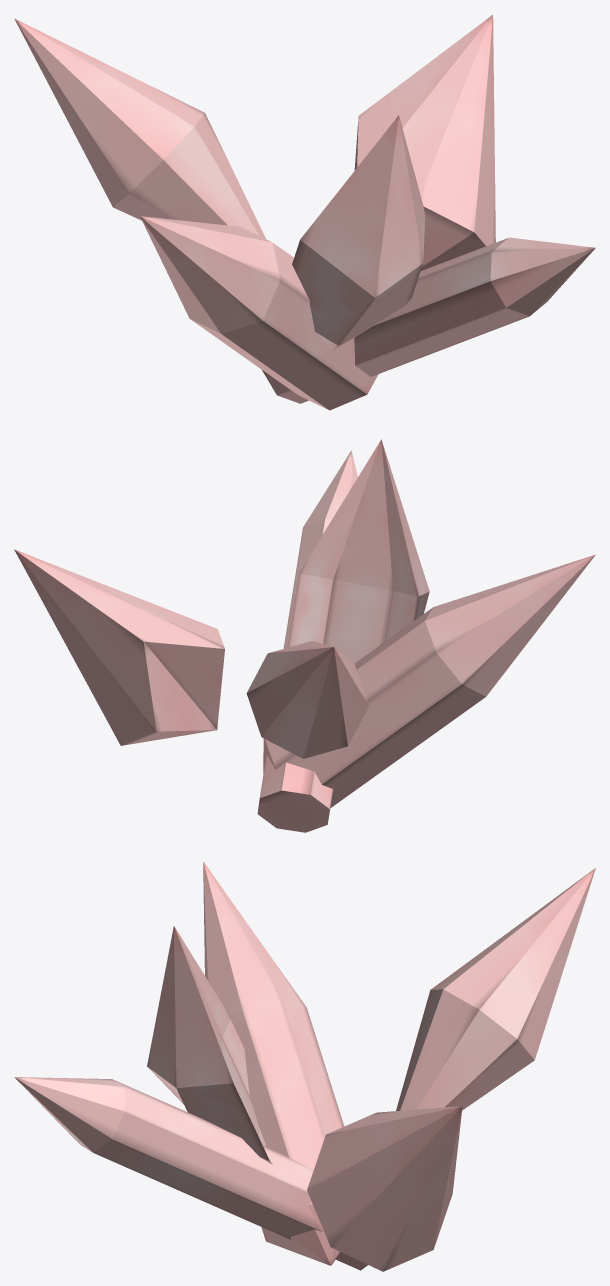
Rendered from ishizakura_fragment.obj.
3 views of the same model, one above another, from view 1: azimuth 30°, elevation 25°; view 2: azimuth 150°, elevation 25°; view 3: azimuth 270°, elevation 25° (orthographic). The views are drawn at different scales.
Visible parts, largest first — view 1: front, right_crystal, left_crystal, center_crystal, cylinder; view 2: right_crystal, left_crystal, center_crystal, front, cylinder; view 3: front, cylinder, right_crystal, left_crystal, center_crystal.
Part boxes in pixels (x1,y1,x2,y2): front: [14, 18, 265, 238]; right_crystal: [140, 216, 378, 410]; left_crystal: [354, 15, 495, 270]; center_crystal: [292, 115, 425, 350]; cylinder: [262, 237, 595, 403]; right_crystal: [263, 554, 595, 807]; left_crystal: [14, 549, 224, 745]; center_crystal: [287, 439, 429, 663]; front: [246, 641, 368, 758]; cylinder: [257, 450, 357, 832]; front: [396, 868, 595, 1110]; cylinder: [14, 1077, 367, 1270]; right_crystal: [203, 862, 344, 1265]; left_crystal: [307, 1106, 462, 1271]; center_crystal: [147, 926, 272, 1164].
Size of the model in its own units: 0.8351 by 0.577 by 0.8916.
